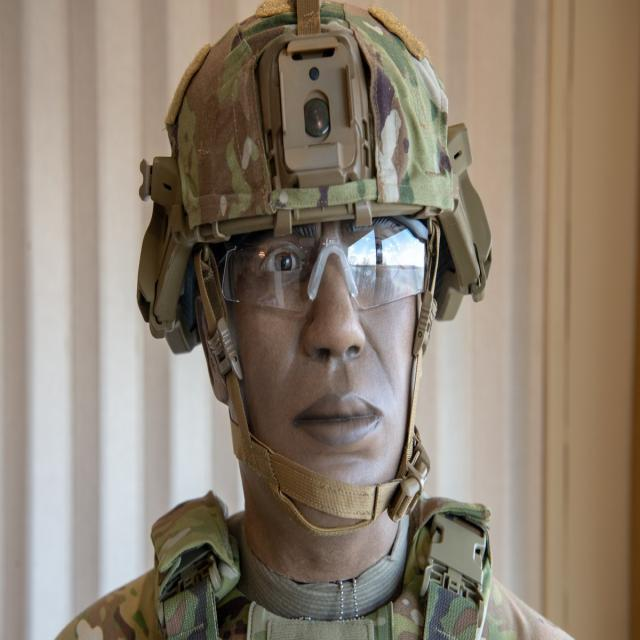illegal_helmet: (124, 0, 504, 543)
